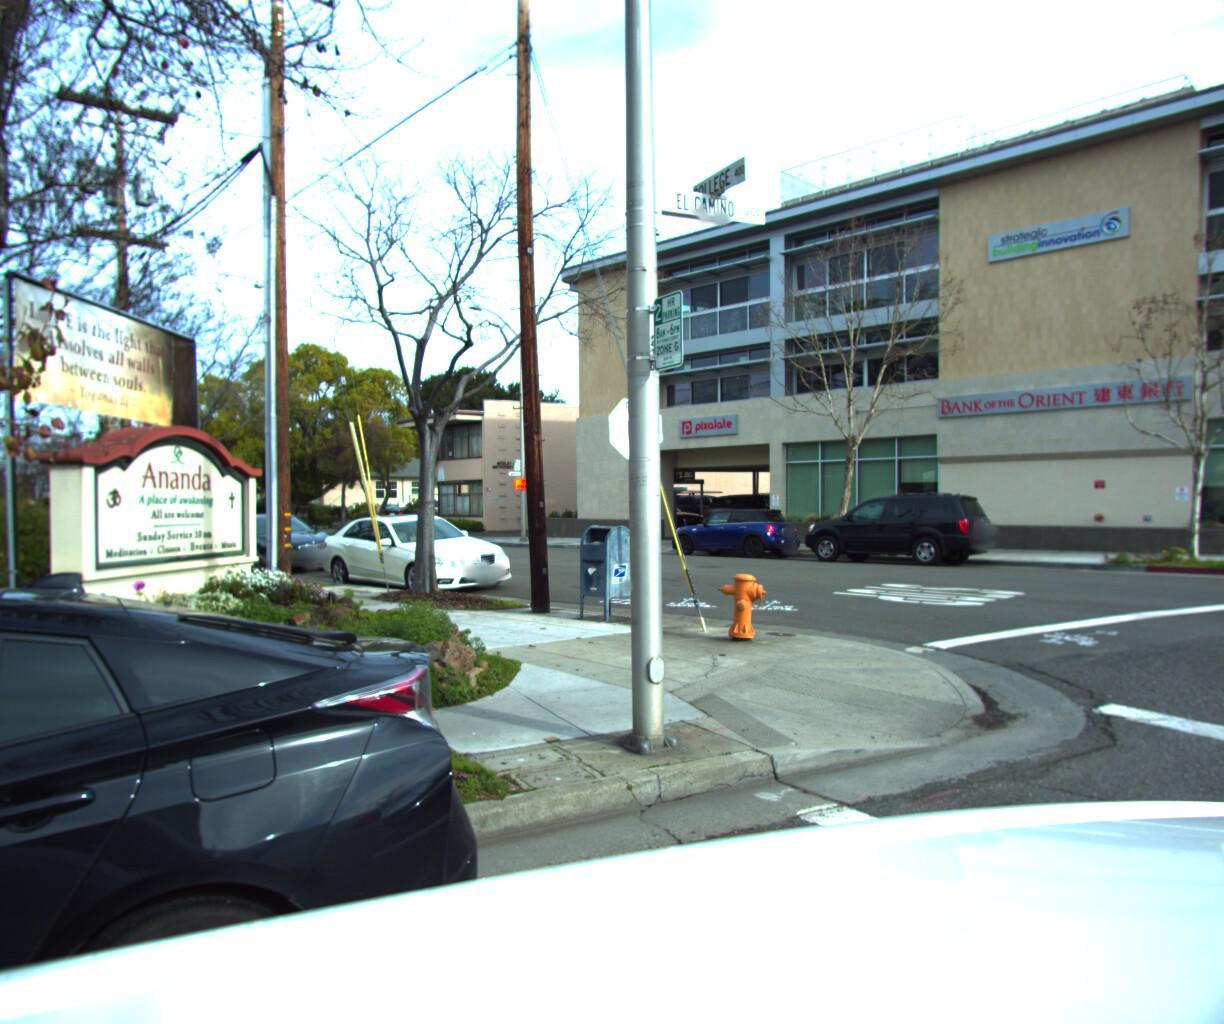car: (0, 540, 541, 1024), (309, 507, 531, 600), (797, 486, 1008, 568), (196, 510, 358, 575), (665, 502, 808, 559)
